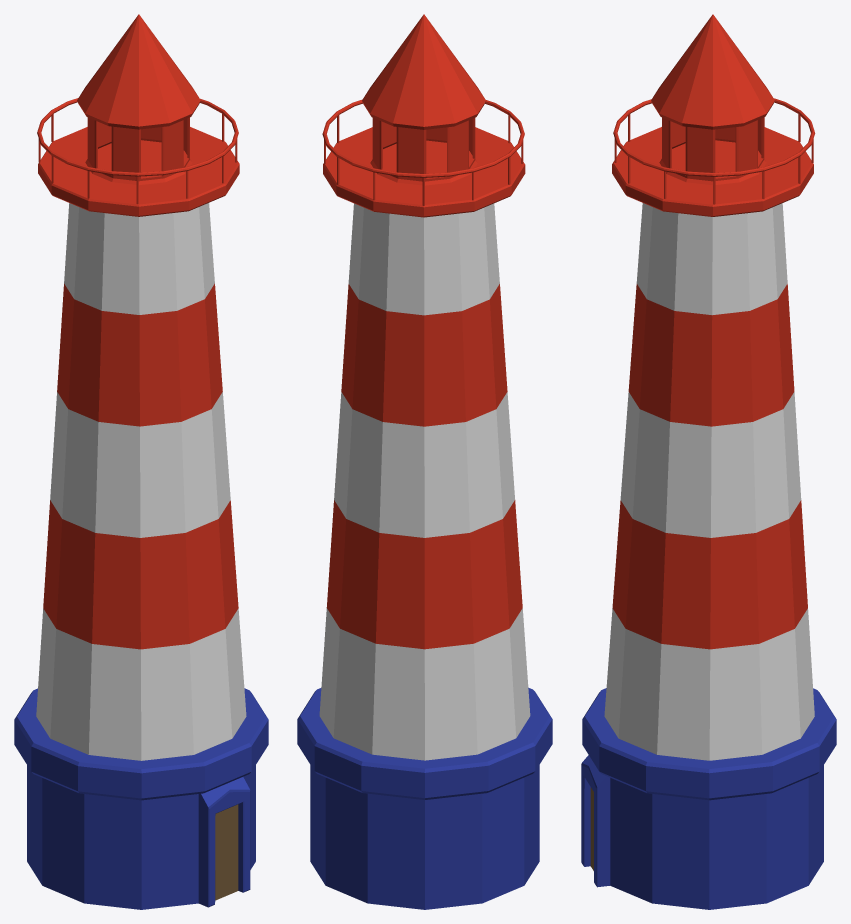
The model's file is lighthouse.gltf.
3 views of the same model, side by side, from view 1: azimuth 30°, elevation 25°; view 2: azimuth 150°, elevation 25°; view 3: azimuth 270°, elevation 25° (orthographic).
Parts seen in each view (by area): view 1: Lighthouse, Railing, Posts; view 2: Lighthouse, Railing, Posts; view 3: Lighthouse, Railing, Posts.
Boxes of the visible parts, x1,y1,x2,y2 form: Lighthouse: [14, 14, 268, 909]; Railing: [37, 98, 238, 176]; Posts: [38, 114, 237, 204]; Lighthouse: [297, 14, 552, 909]; Railing: [322, 100, 524, 177]; Posts: [324, 115, 523, 205]; Lighthouse: [581, 14, 836, 909]; Railing: [613, 98, 815, 176]; Posts: [614, 114, 813, 204].
Size of the model in its own units: 0.234 by 0.8596 by 0.2349.
